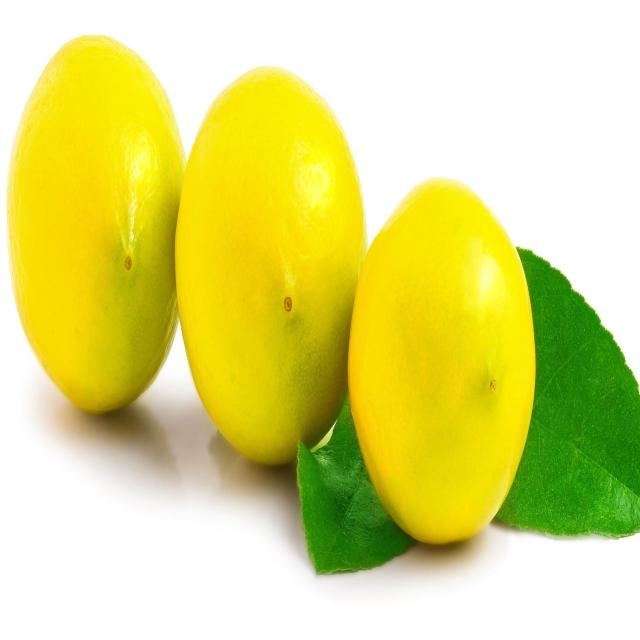lemon: (343, 170, 540, 559), (2, 23, 191, 428)
